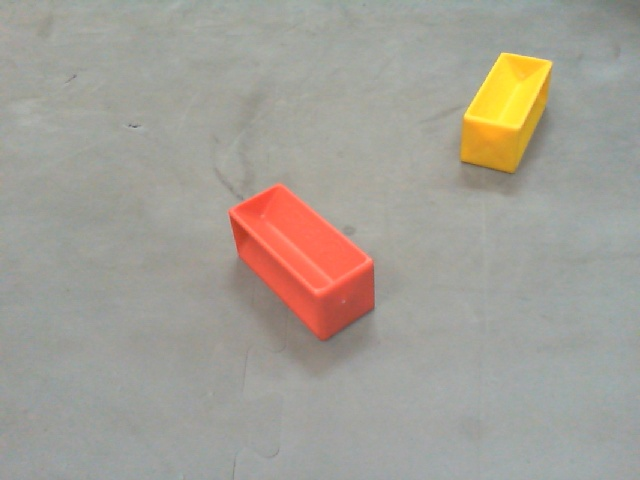RedSample: (229, 184, 376, 343)
YellowSample: (456, 49, 556, 176)
